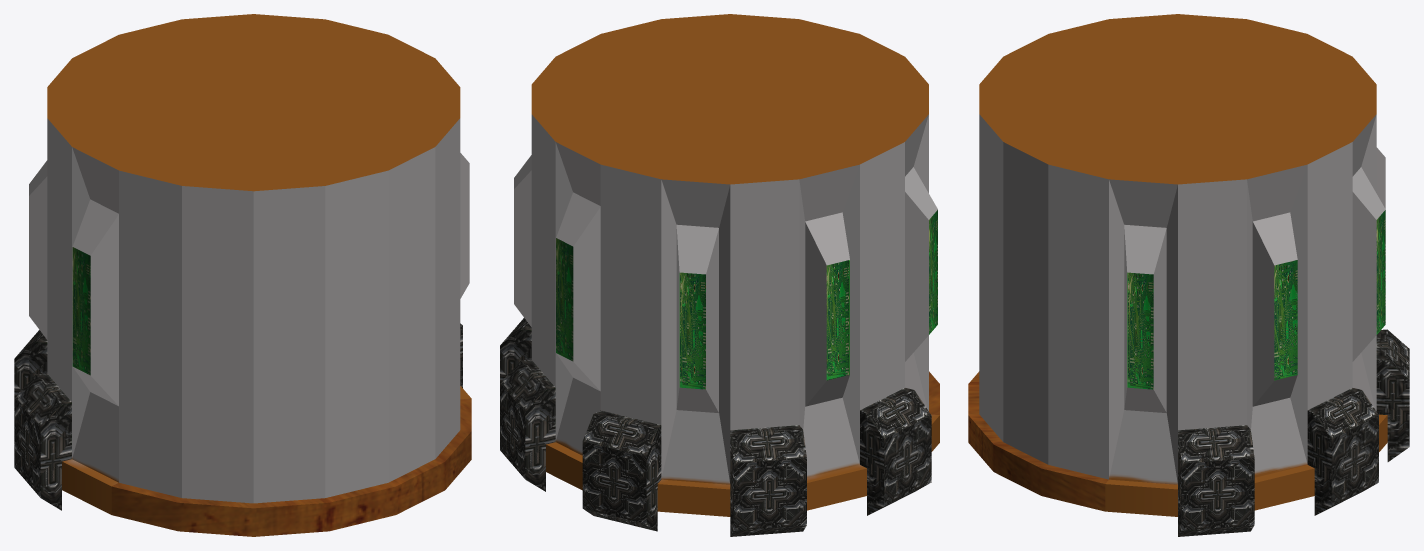
The model's file is Space_Generator_Top.FBX.
3 renders of one model, left to right at view 1: azimuth 30°, elevation 25°; view 2: azimuth 150°, elevation 25°; view 3: azimuth 270°, elevation 25°, orthographic. The views are drawn at different scales.
Visible parts, largest first — view 1: Cylinder001; view 2: Cylinder001; view 3: Cylinder001.
Part boxes in pixels (x1,y1,x2,y2): Cylinder001: [14, 14, 471, 536]; Cylinder001: [500, 14, 939, 536]; Cylinder001: [968, 14, 1409, 536].
Size of the model in its own units: 154 by 140 by 145.
